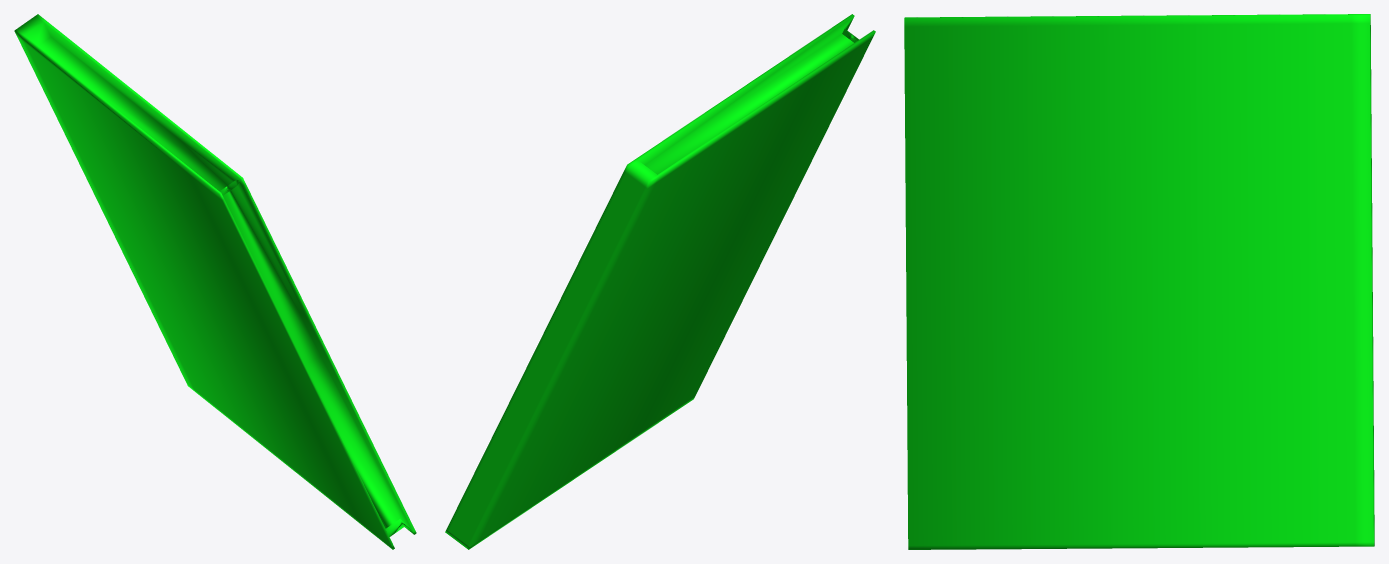
Rendered from Book_13.fbx.
3 renders of one model, left to right at view 1: azimuth 30°, elevation 25°; view 2: azimuth 150°, elevation 25°; view 3: azimuth 270°, elevation 25°, orthographic. The views are drawn at different scales.
Visible parts, largest first — view 1: Book_13; view 2: Book_13; view 3: Book_13.
Part boxes in pixels (bbox=[...]): Book_13: bbox=[14, 14, 416, 549]; Book_13: bbox=[445, 14, 875, 549]; Book_13: bbox=[904, 14, 1374, 549].
Bounding box in the file's own units: 16.62 × 32.15 × 29.93.
